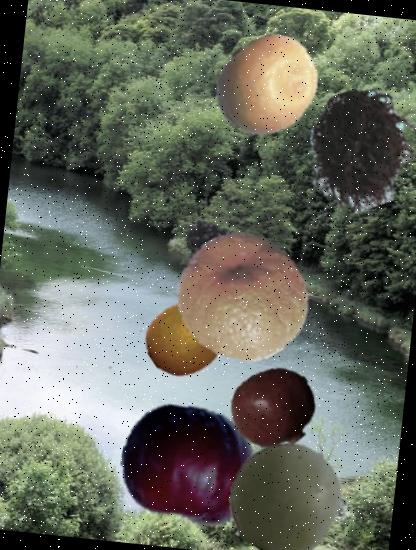Grape: (221, 434, 347, 550)
Kumquats: (207, 26, 328, 146)
Lemon: (140, 289, 237, 386)
Mandarine: (170, 225, 314, 370)
Mulberry: (179, 214, 248, 282)
Plum: (114, 390, 264, 540)
Pomegranate: (227, 361, 322, 456)
Rambutan: (295, 84, 416, 215)
